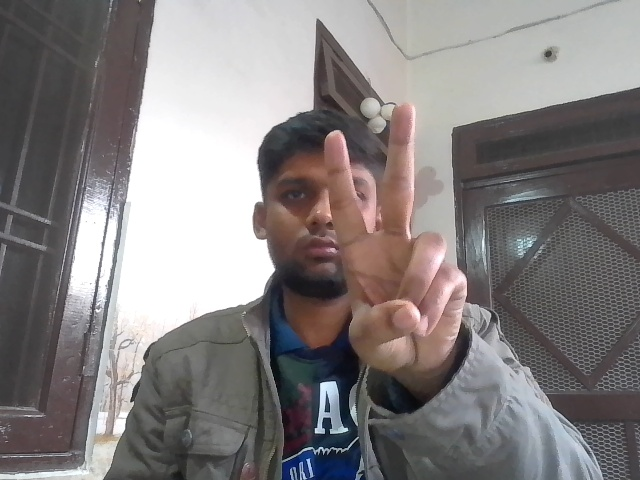Enjoy: (315, 99, 468, 374)
